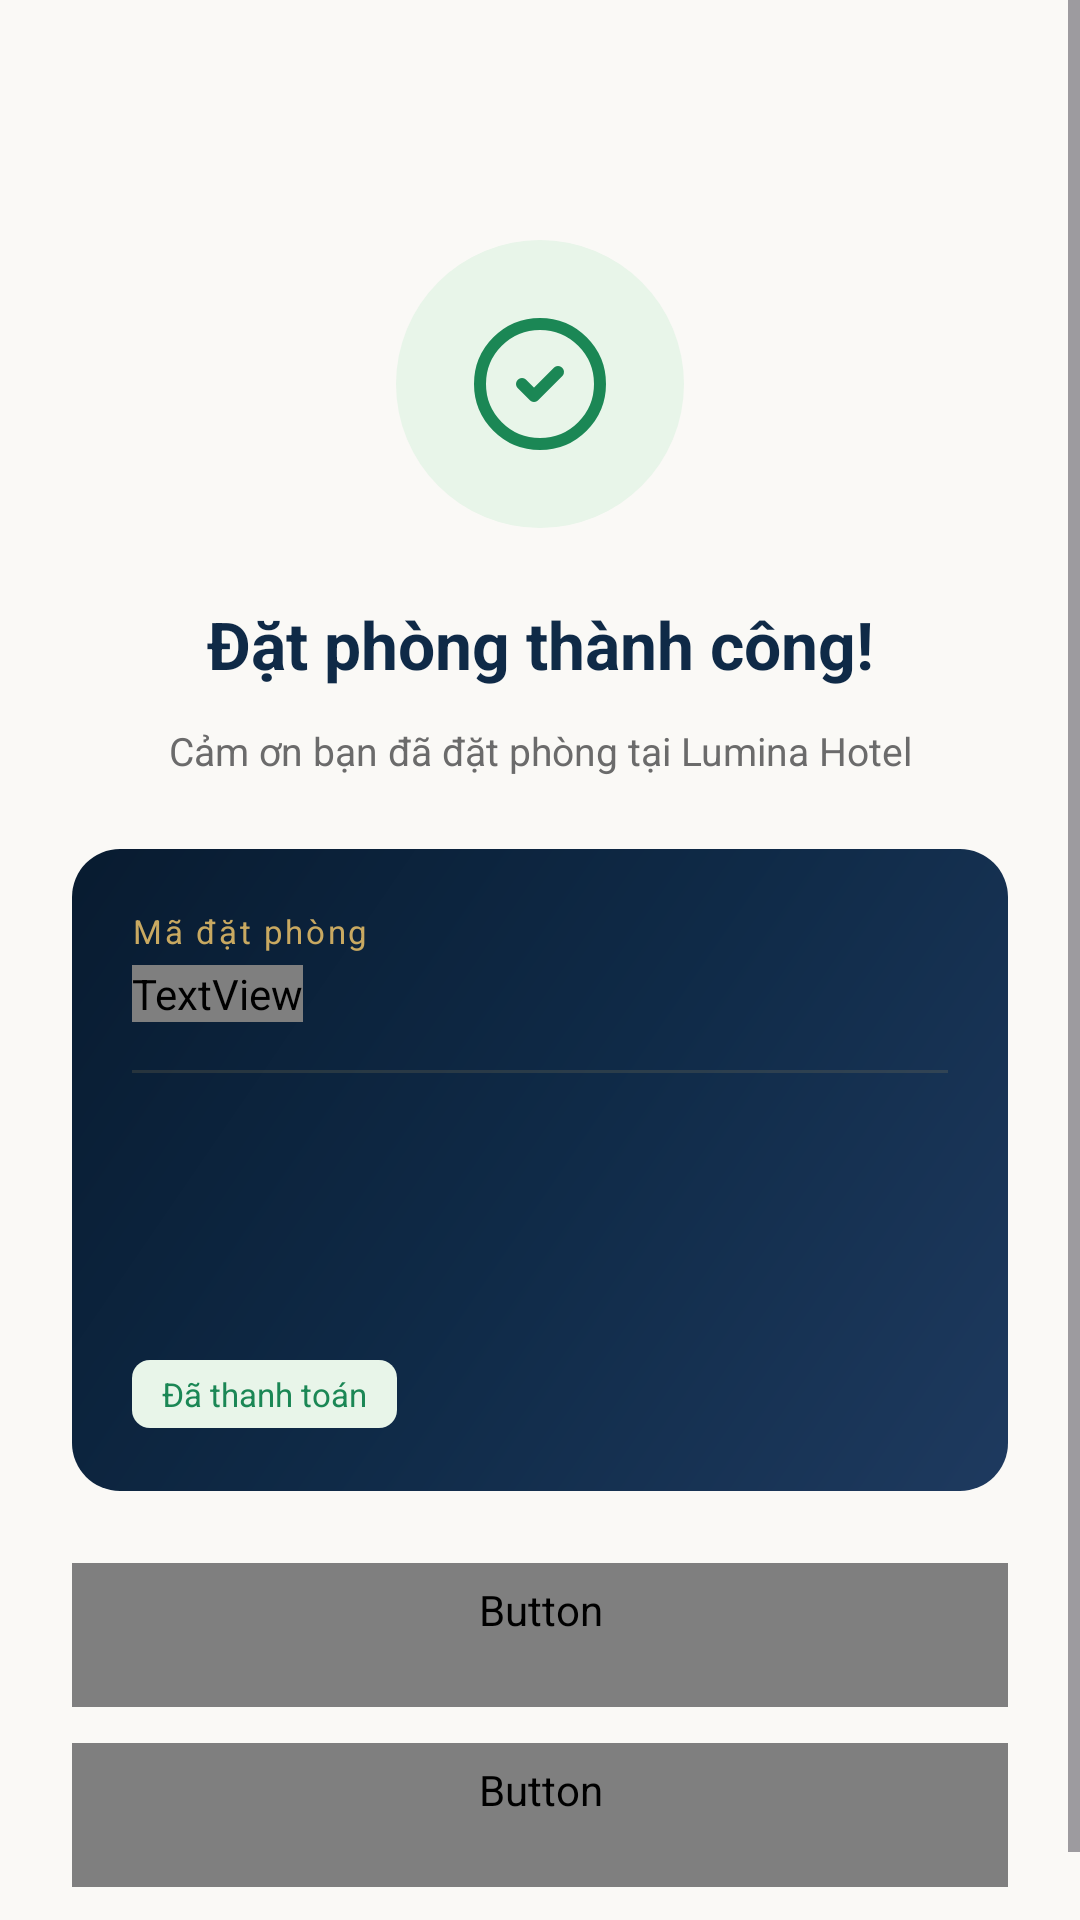

Screen size 1080 x 1920. Icon name, then its center in pixels as (x,y):
check circle: (540,384)
